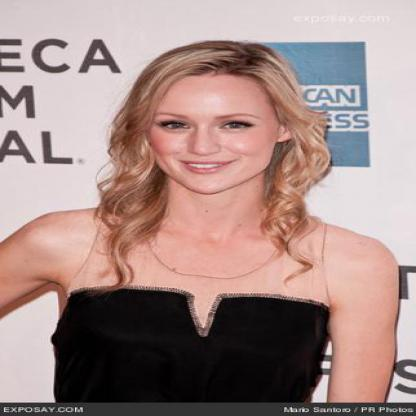long-hair: (84, 196, 320, 232)
